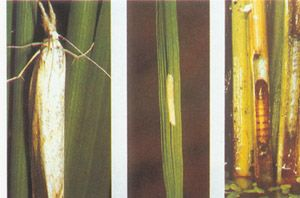Crambidae: (5, 1, 109, 197)
